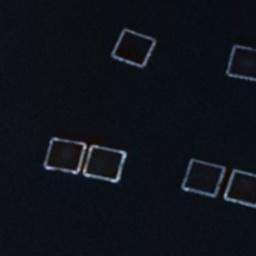square_solid: (38, 130, 98, 179), (107, 22, 162, 73), (177, 151, 232, 202), (77, 141, 132, 188), (219, 37, 256, 89), (219, 164, 256, 214)
